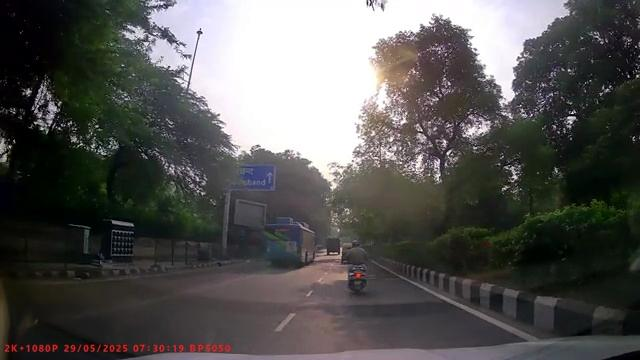motorcycle_with_helmet: (345, 240, 369, 293)
